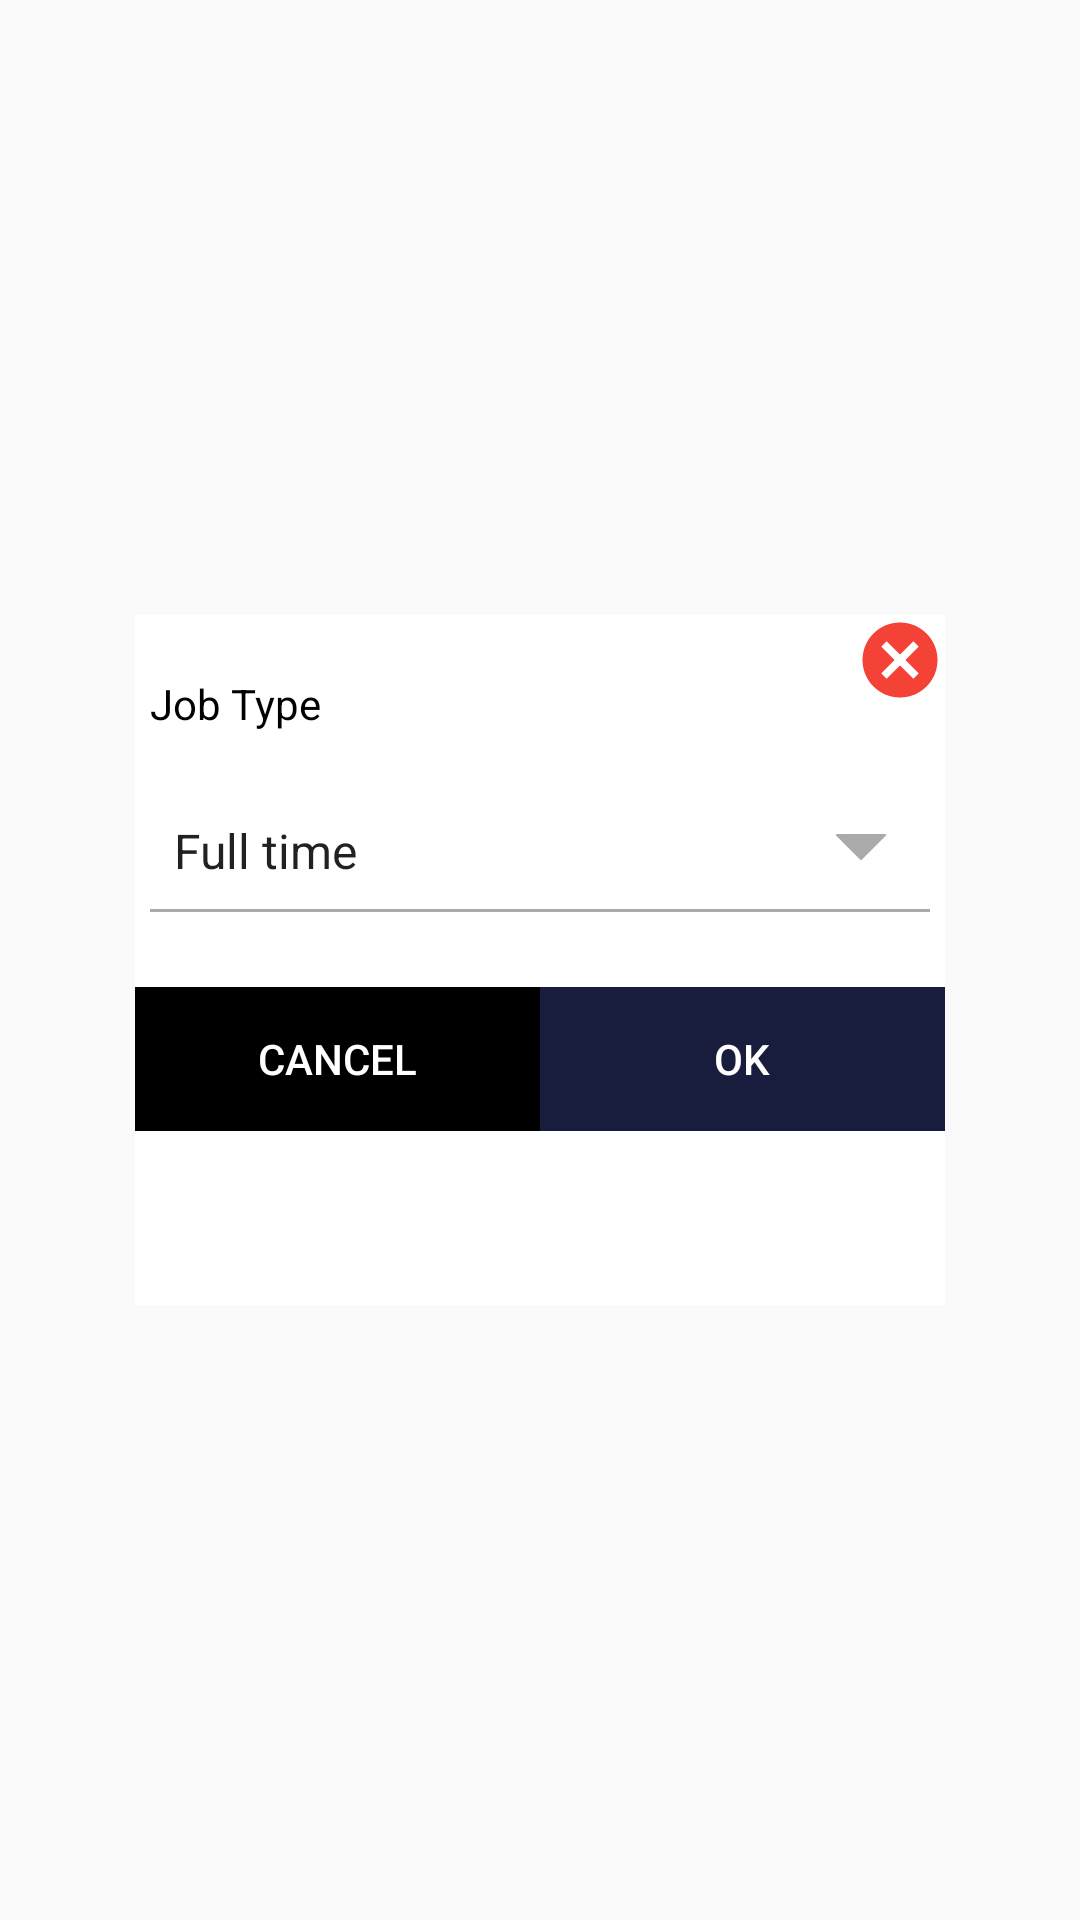

Where icons sit on this 1080 × 1920 app screen, as (x1, y1, x2, y2):
cancel: (862, 622, 938, 698)
